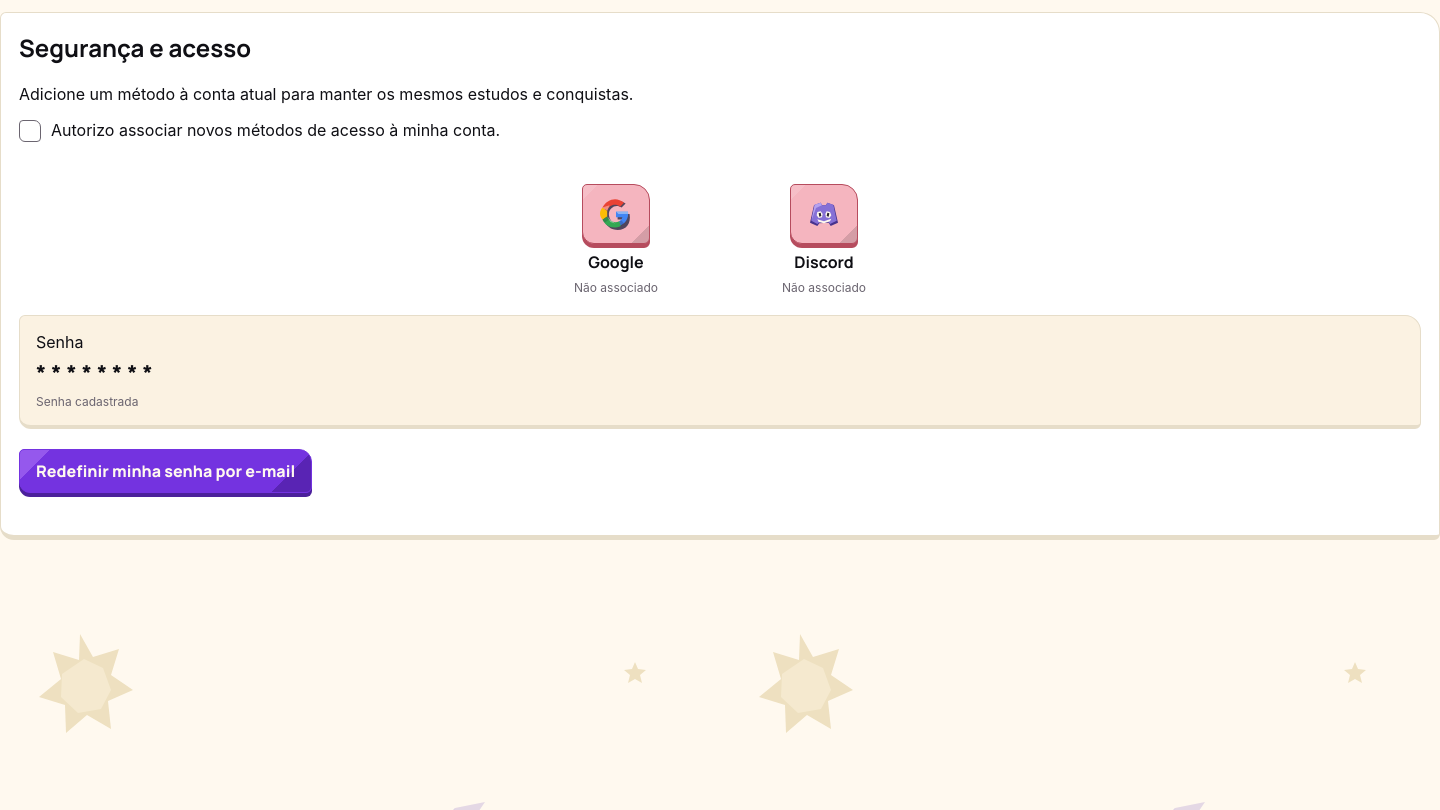
Scenario: does not announce email delivery when Firebase rejects the reset
The width and height of the screenshot is (1440, 810).
Click the button "Redefinir minha senha por e-mail": (166, 471) [19,449,312,493]
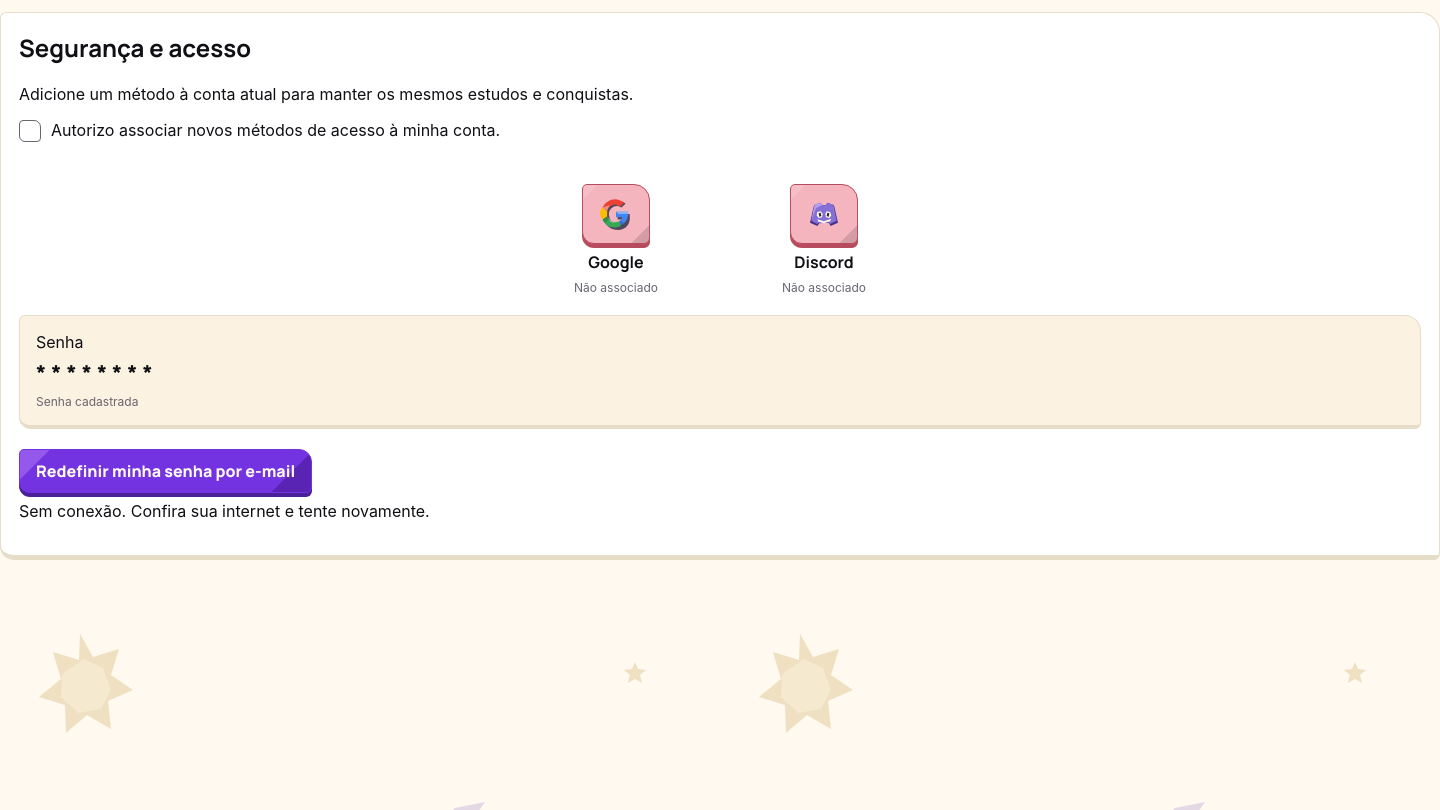
expect the text "Sem conexão. Confira sua internet e tente novamente." is shown: met, box [19,501,430,521]
